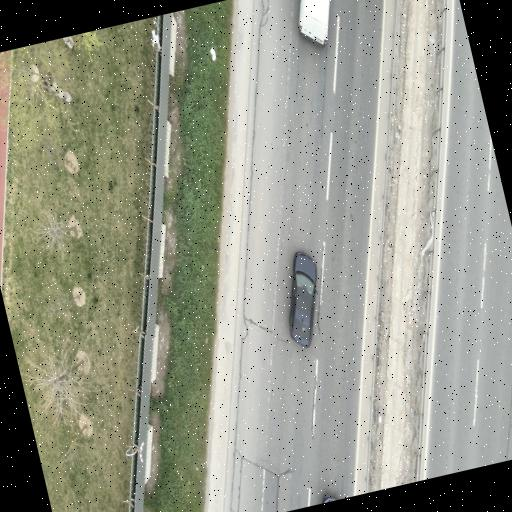car: (289, 252, 316, 346), (322, 496, 334, 502)
truck: (298, 0, 329, 45)
